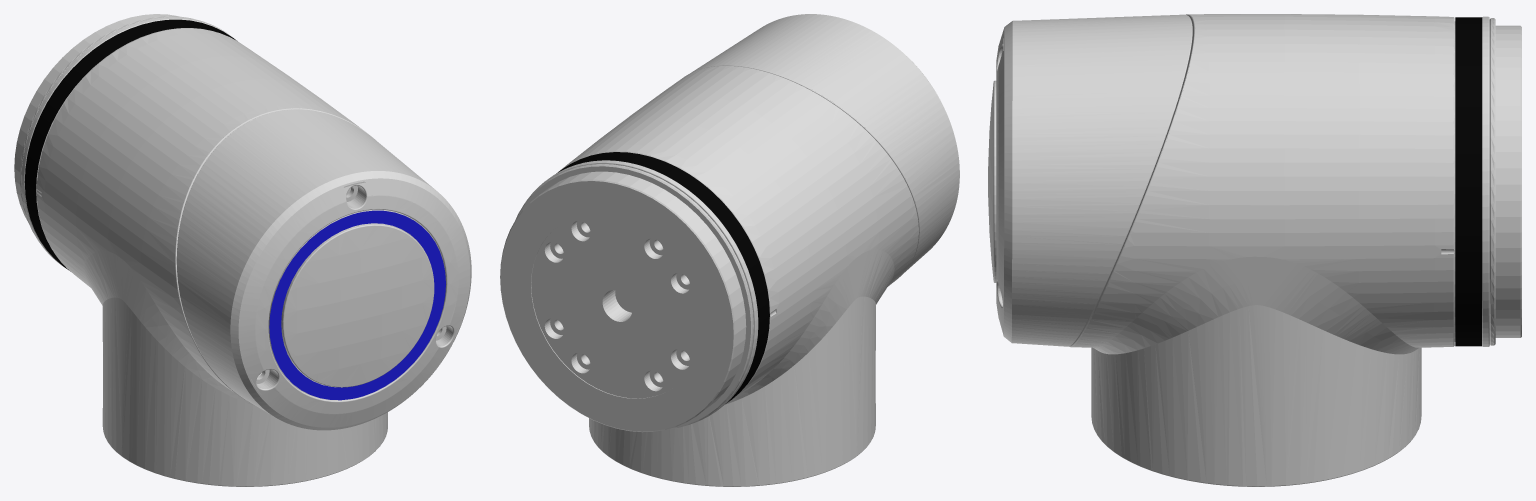
File: symphony5_4_w.dae
The picture shows the model from 3 angles, left to right: view 1: azimuth 30°, elevation 25°; view 2: azimuth 150°, elevation 25°; view 3: azimuth 270°, elevation 25°; orthographic projection. The views are drawn at different scales.
Visible parts, largest first — view 1: link4; view 2: link4; view 3: link4.
Part boxes in pixels (<box>): link4: <box>14,14,471,486</box>; link4: <box>500,14,959,486</box>; link4: <box>988,14,1521,486</box>.
Bounding box in the file's own units: 0.0763 × 0.1213 × 0.0972.
